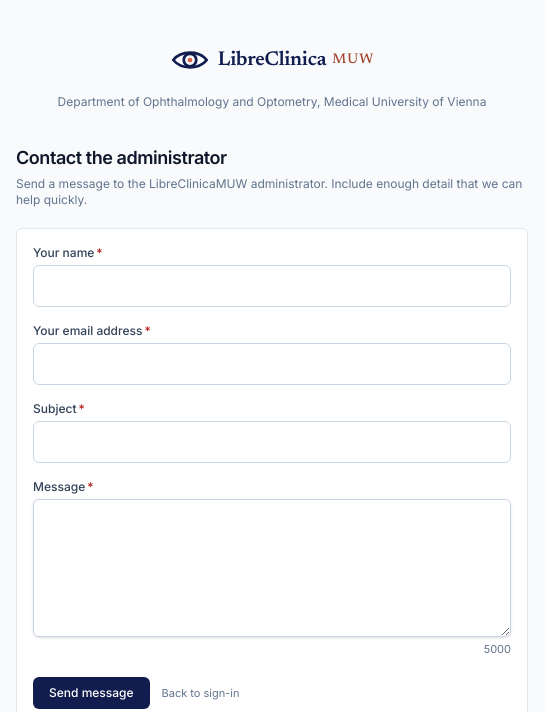
Scenario: ContactView › surfaces per-field errors when the backend returns 400
Type "Anne Tester" into the field with id "contact-name".
click(272, 286); type("Anne Tester")  # box top-left (33, 264), bottom-right (511, 306)
Type "anne@example.org" into the field with id "contact-email".
click(272, 364); type("anne@example.org")  # box top-left (33, 342), bottom-right (511, 384)
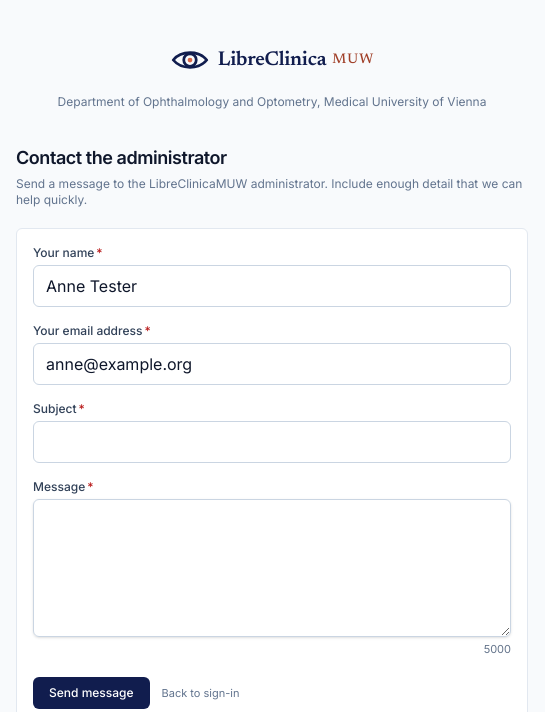
Type "CRF rendering issue" into the field with id "contact-subject".
click(272, 442); type("CRF rendering issue")  # box top-left (33, 420), bottom-right (511, 462)
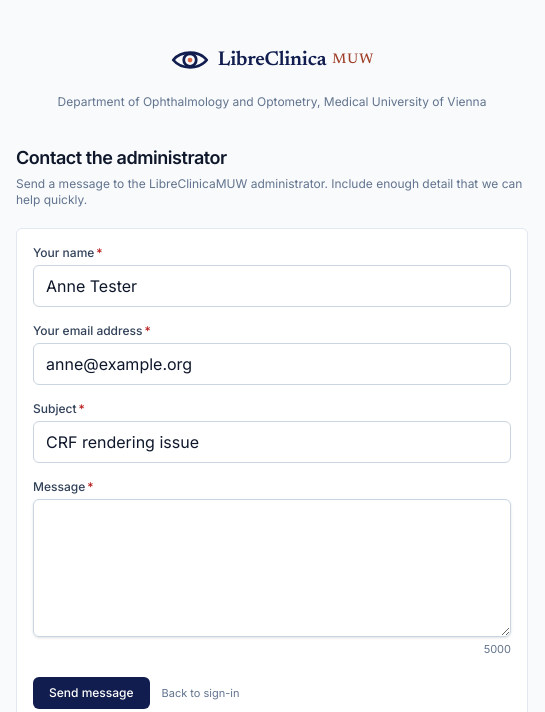
Type "I see a blank panel on visit 3." into the text box with id "contact-message".
click(272, 568); type("I see a blank panel on visit 3.")  # box top-left (33, 498), bottom-right (511, 636)
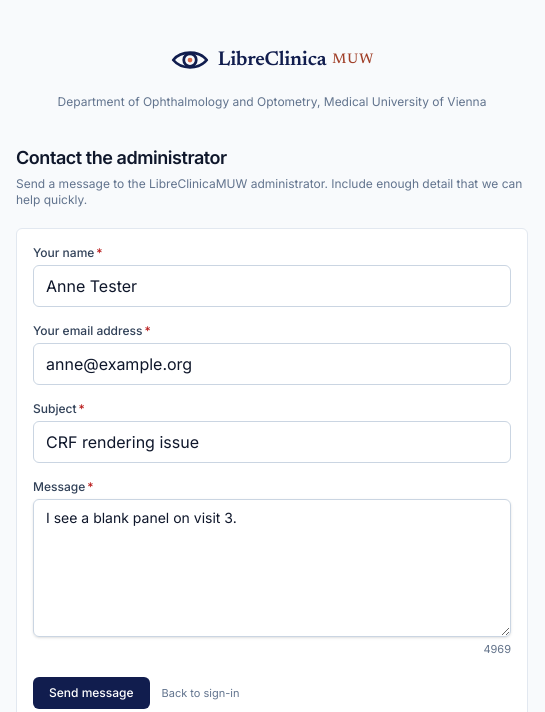
Replace the text in the field with id "contact-email" with "not-an-email" at (272, 364), box top-left (33, 342), bottom-right (511, 384)
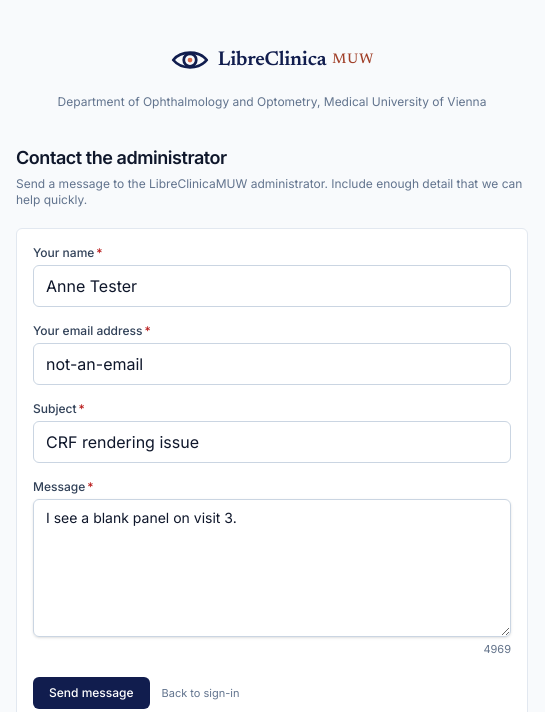
Clear the text box with id "contact-message" at (272, 568), box top-left (33, 498), bottom-right (511, 636)
(page scrolled)
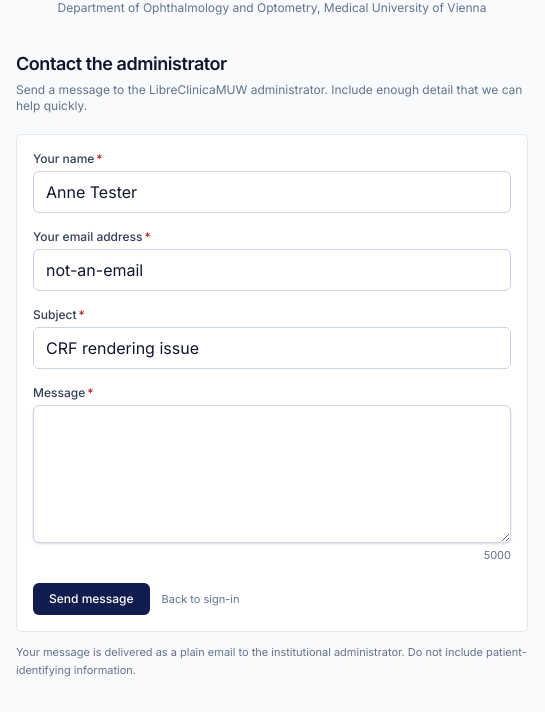
Submit the form
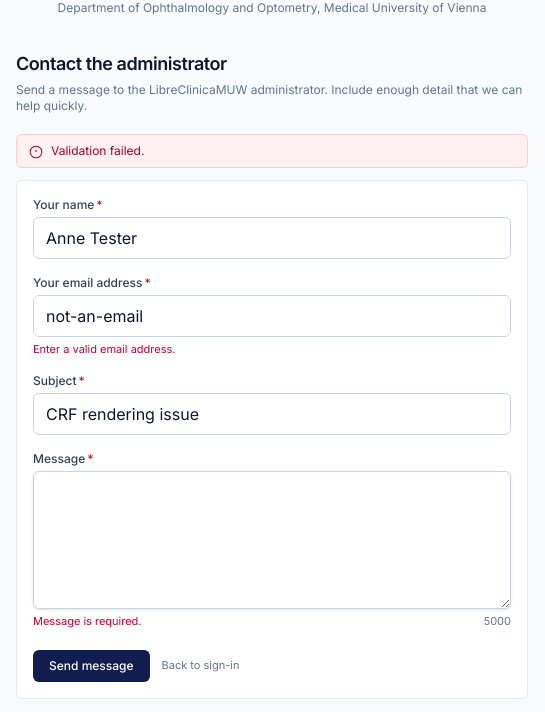
Expected: the text "Enter a valid email address." is shown, top-left (33, 342), bottom-right (175, 356)
Expected: the text "Message is required." is shown, top-left (33, 613), bottom-right (142, 630)
